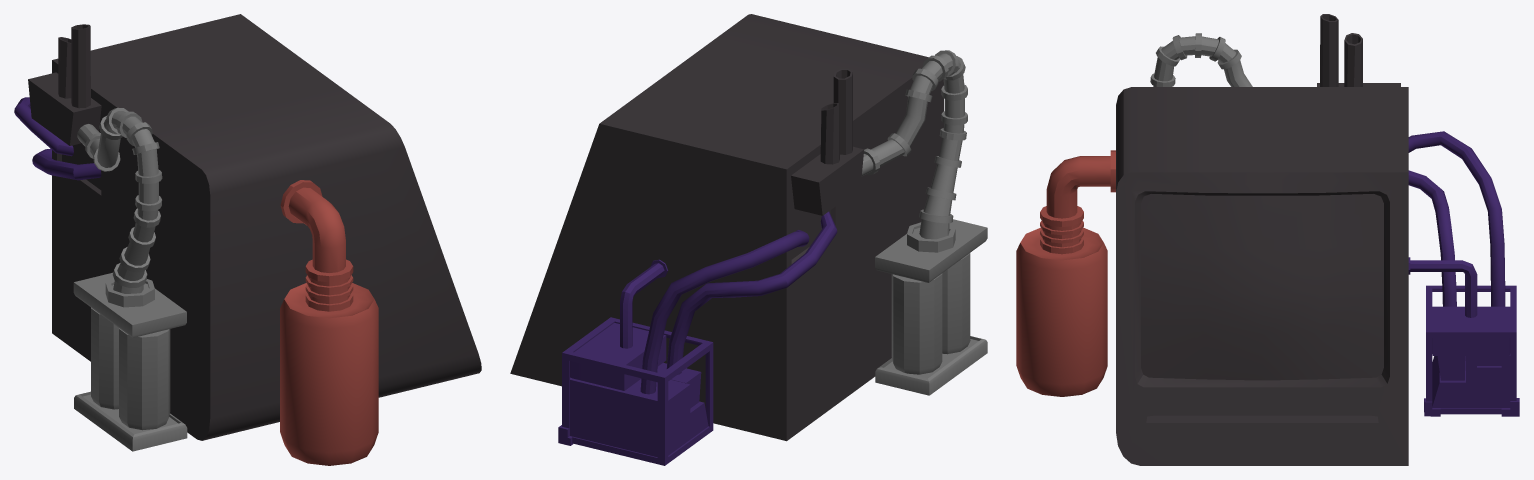
Rendered from Research_Building.fbx.
The picture shows the model from 3 angles, left to right: view 1: azimuth 30°, elevation 25°; view 2: azimuth 150°, elevation 25°; view 3: azimuth 270°, elevation 25°; orthographic projection. The views are drawn at different scales.
Parts seen in each view (by area): view 1: Computer, Can, Battery, Generator; view 2: Computer, Generator, Battery; view 3: Computer, Can, Generator, Battery.
Part boxes in pixels (x1,y1,x2,y2): Computer: (28,14,481,440); Can: (280,180,378,465); Battery: (73,107,187,451); Generator: (14,97,101,180); Computer: (510,14,943,441); Generator: (558,211,837,465); Battery: (861,50,987,395); Computer: (1116,14,1408,465); Can: (1016,150,1115,396); Generator: (1408,131,1519,416); Battery: (1150,33,1252,86).
Size of the model in its own units: 949 by 917 by 1317.
